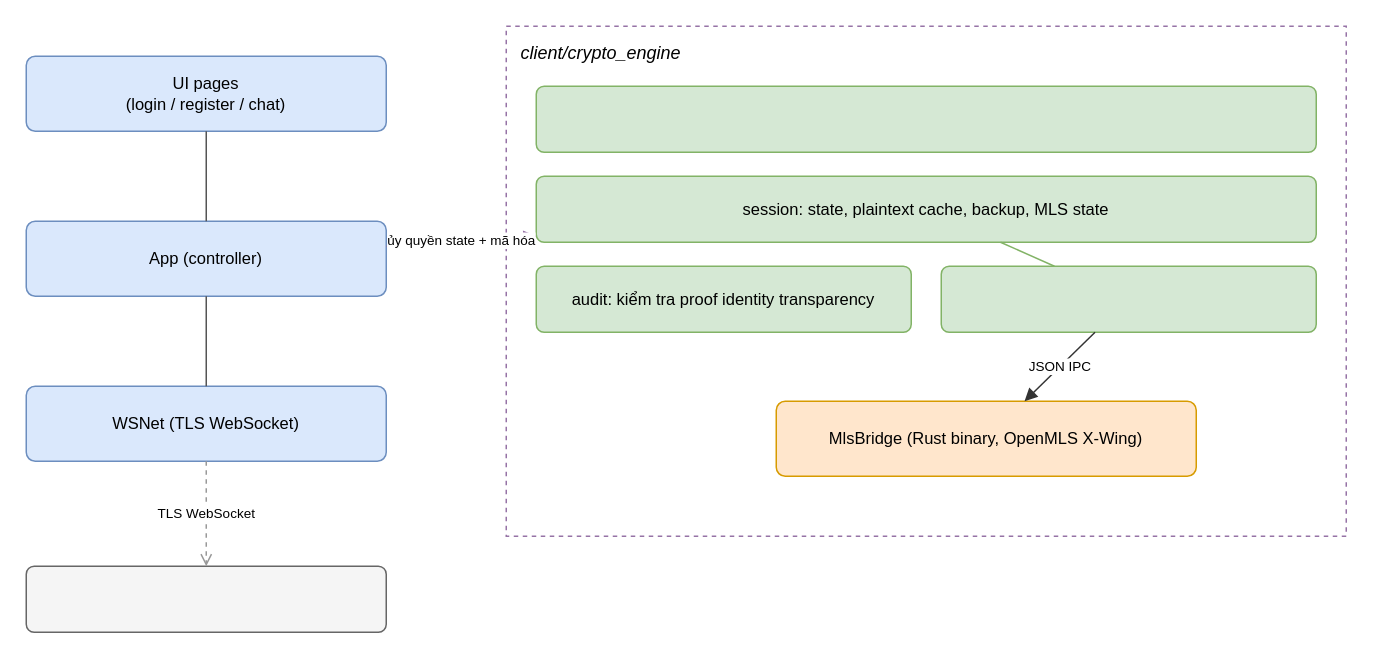
This 1373x659 diagram has some shape labels left out. Each missing label, with the centre of its shape:
Chat server: pixel 205 598
openmls_bridge: pixel 1128 298
secure_protocol: PQXDH, Double Ratchet, wire S3*: pixel 925 118
